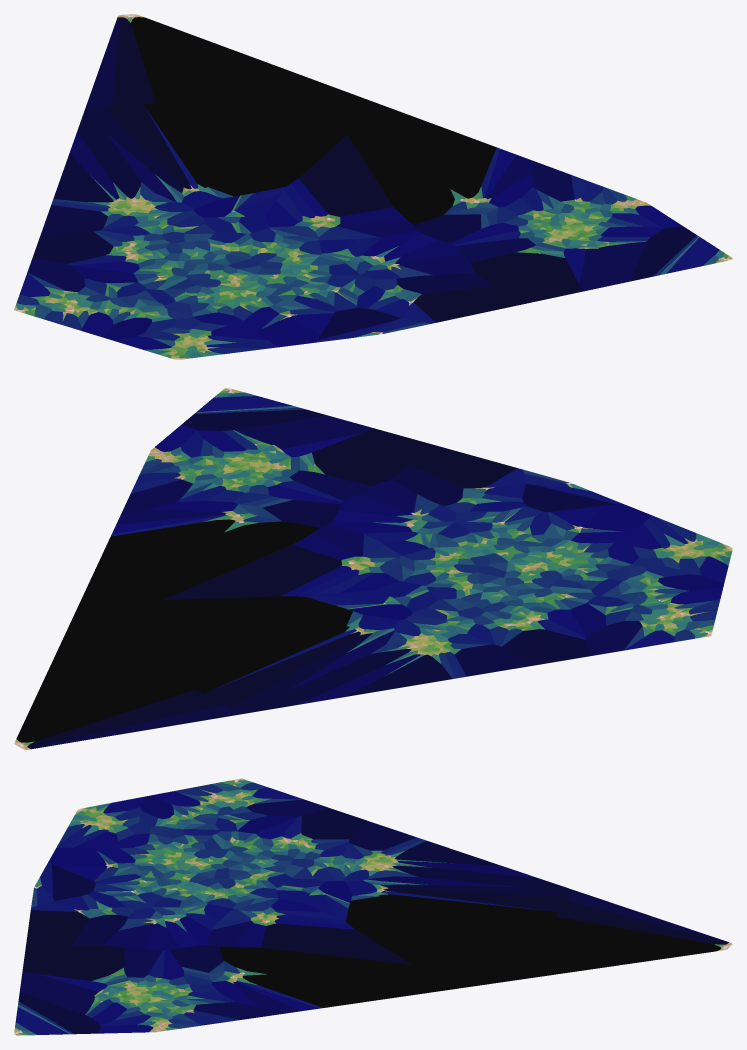
File: 'umap2_voronoi.gltf
3 views of the same model, one above another, from view 1: azimuth 30°, elevation 25°; view 2: azimuth 150°, elevation 25°; view 3: azimuth 270°, elevation 25° (orthographic). The views are drawn at different scales.
Visible parts, largest first — view 1: Renderer Node; view 2: Renderer Node; view 3: Renderer Node.
Part boxes in pixels (x1,y1,x2,y2): Renderer Node: (14,14,732,359); Renderer Node: (14,388,732,749); Renderer Node: (14,778,732,1035).
Size of the model in its own units: 13.75 by 0 by 16.25.
Materials: 1 (1 with a texture image).
